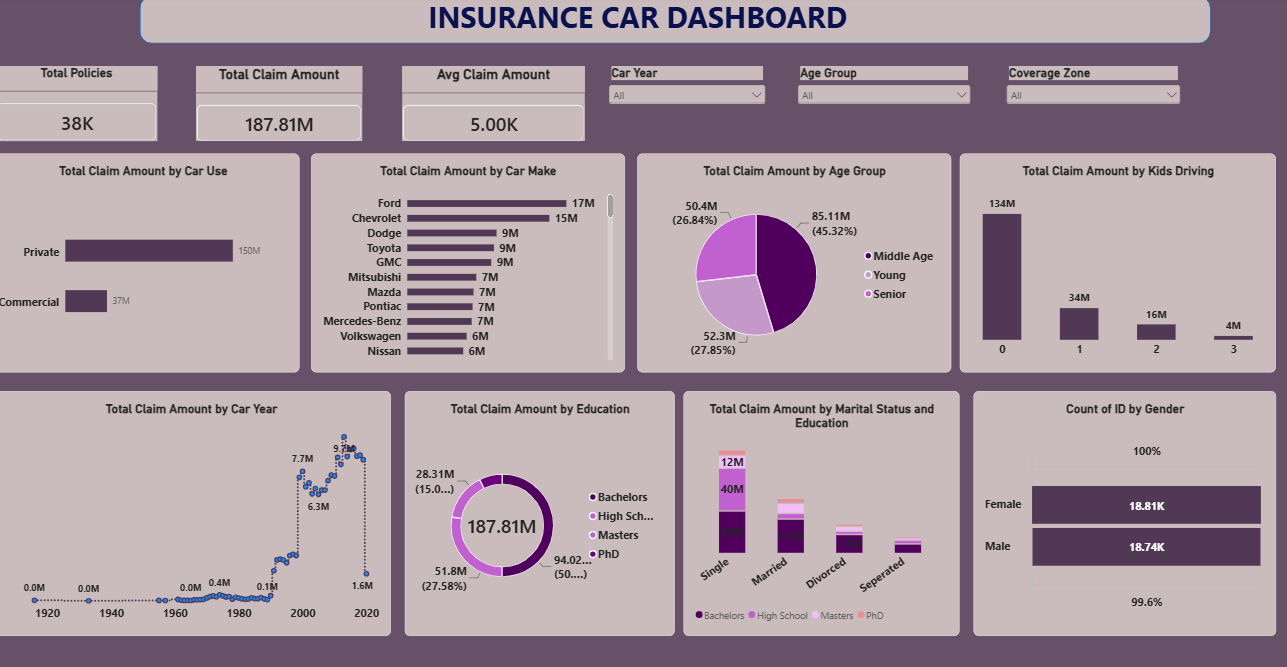

The dashboard page shown, as its layout file describes it:
{"tool":"powerbi","page":{"name":"Page 1","canvas":[1920,1080],"ordinal":0},"visuals":[{"type":"cardVisual","title":"Total Policies","fields":{"Data":["insurance_data_car.Total Policies"]},"box":[14.7,103.1,237.4,110.4],"z":0},{"type":"shape","box":[226.4,0,1576.7,70],"z":1000},{"type":"textbox","box":[170.8,0,1576.7,70],"z":2000},{"type":"cardVisual","title":"Total Claim Amount ","fields":{"Data":["insurance_data_car.Total Claim Amount"]},"box":[309.2,103.1,244.8,110.4],"z":3000},{"type":"cardVisual","title":"Avg Claim Amount ","fields":{"Data":["insurance_data_car.Avg Claim Amount"]},"box":[612.9,103.1,268.7,110.4],"z":4000},{"type":"clusteredBarChart","fields":{"Category":["insurance_data_car.Car Use"],"Y":["insurance_data_car.Total Claim Amount"]},"box":[0,231.9,462,322.1],"z":5000},{"type":"barChart","fields":{"Category":["insurance_data_car.Car Make"],"Y":["insurance_data_car.Total Claim Amount"]},"box":[478.5,231.9,462,322],"z":6000},{"type":"pieChart","fields":{"Category":["insurance_data_car.Age Group"],"Y":["insurance_data_car.Total Claim Amount"]},"box":[958.9,231.9,462,322],"z":7000},{"type":"lineChart","fields":{"Category":["insurance_data_car.Car Year"],"Y":["insurance_data_car.Total Claim Amount"]},"box":[7.4,581.6,589,360.7],"z":8000},{"type":"clusteredColumnChart","fields":{"Category":["insurance_data_car.Kids Driving"],"Y":["insurance_data_car.Total Claim Amount"]},"box":[1433.7,231.9,465.6,322.1],"z":9000},{"type":"donutChart","fields":{"Category":["insurance_data_car.Education"],"Y":["insurance_data_car.Total Claim Amount"]},"box":[616.6,581.6,397.5,360.7],"z":10000},{"type":"columnChart","fields":{"Category":["insurance_data_car.Marital Status"],"Series":["insurance_data_car.Education"],"Y":["insurance_data_car.Total Claim Amount"]},"box":[1027,581.6,406,361],"z":11000},{"type":"funnel","fields":{"Category":["insurance_data_car.Gender"],"Y":["CountNonNull(insurance_data_car.ID)"]},"box":[1454,581.6,445.4,360.7],"z":12000},{"type":"slicer","fields":{"Values":["insurance_data_car.Car Year"]},"box":[912.9,103.1,239.3,110.4],"z":13000},{"type":"slicer","fields":{"Values":["insurance_data_car.Age Group"]},"box":[1190.8,103.1,263.2,97.5],"z":14000},{"type":"slicer","fields":{"Values":["insurance_data_car.Coverage Zone"]},"box":[1498.2,103.1,265,97.5],"z":15000}]}

Visuals, with their boxes on the page's 1920x1080 design canvas (x1, y1, x2, y2). These are canvas units, not pixel positions in the 1287x667 screenshot, which may show the page scaled, cropped or inside an application window:
"Total Policies" cardVisual: <box>15,103,252,214</box>
shape: <box>226,0,1803,70</box>
textbox: <box>171,0,1748,70</box>
"Total Claim Amount " cardVisual: <box>309,103,554,214</box>
"Avg Claim Amount " cardVisual: <box>613,103,882,214</box>
clusteredBarChart - insurance_data_car.Car Use x insurance_data_car.Total Claim Amount: <box>0,232,462,554</box>
barChart - insurance_data_car.Car Make x insurance_data_car.Total Claim Amount: <box>478,232,940,554</box>
pieChart - insurance_data_car.Age Group x insurance_data_car.Total Claim Amount: <box>959,232,1421,554</box>
lineChart - insurance_data_car.Car Year x insurance_data_car.Total Claim Amount: <box>7,582,596,942</box>
clusteredColumnChart - insurance_data_car.Kids Driving x insurance_data_car.Total Claim Amount: <box>1434,232,1899,554</box>
donutChart - insurance_data_car.Education x insurance_data_car.Total Claim Amount: <box>617,582,1014,942</box>
columnChart - insurance_data_car.Marital Status x insurance_data_car.Education: <box>1027,582,1433,943</box>
funnel - insurance_data_car.Gender x CountNonNull(insurance_data_car.ID): <box>1454,582,1899,942</box>
slicer - insurance_data_car.Car Year: <box>913,103,1152,214</box>
slicer - insurance_data_car.Age Group: <box>1191,103,1454,201</box>
slicer - insurance_data_car.Coverage Zone: <box>1498,103,1763,201</box>
